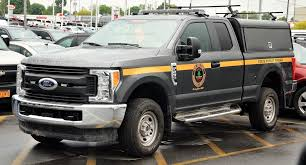Vehicle: (14, 11, 290, 146)
